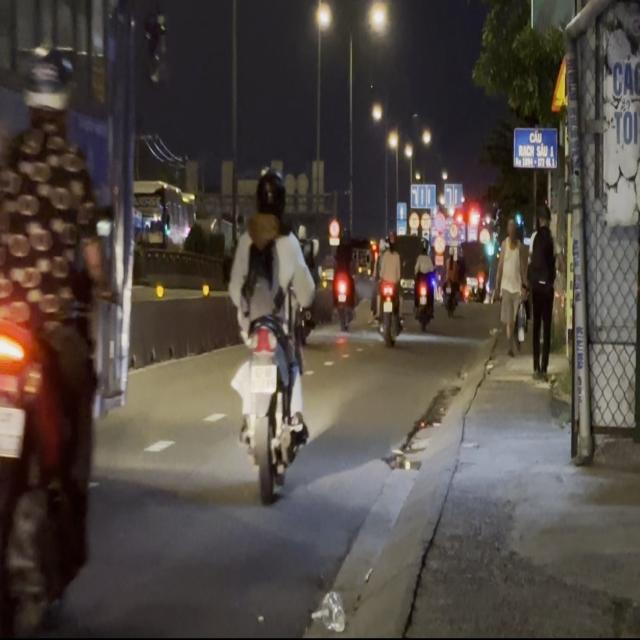helmet: (22, 44, 76, 137), (253, 164, 286, 221)
licenseplate: (0, 7, 110, 635), (225, 161, 316, 496)
nohelmet: (0, 404, 24, 454), (249, 362, 276, 392)
